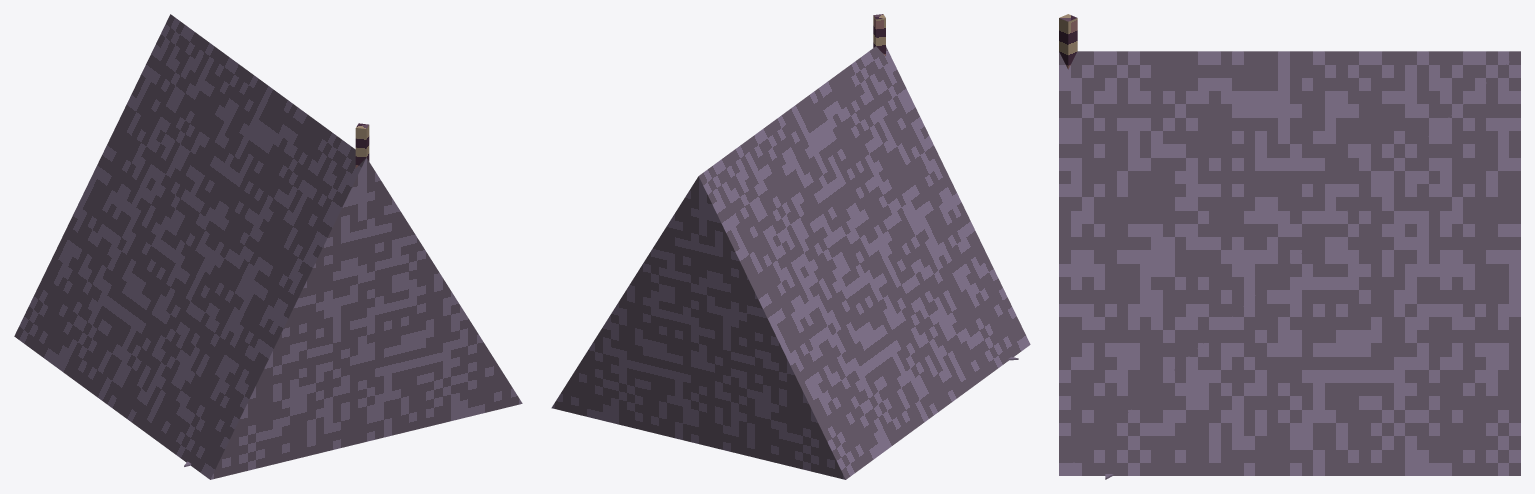
The model's file is acampamento_cinzas_tenda_cinza_2.glb.
The picture shows the model from 3 angles, left to right: view 1: azimuth 30°, elevation 25°; view 2: azimuth 150°, elevation 25°; view 3: azimuth 270°, elevation 25°; orthographic projection. The views are drawn at different scales.
Visible parts, largest first — view 1: acampamento_cinzas_tenda_cinza_2; view 2: acampamento_cinzas_tenda_cinza_2; view 3: acampamento_cinzas_tenda_cinza_2.
Part boxes in pixels (x1,y1,x2,y2): acampamento_cinzas_tenda_cinza_2: (14, 14, 522, 479); acampamento_cinzas_tenda_cinza_2: (551, 14, 1030, 479); acampamento_cinzas_tenda_cinza_2: (1059, 14, 1520, 479).
Bounding box in the file's own units: 2.4 × 2.2 × 2.5.
Materials: 2 (2 with a texture image).
